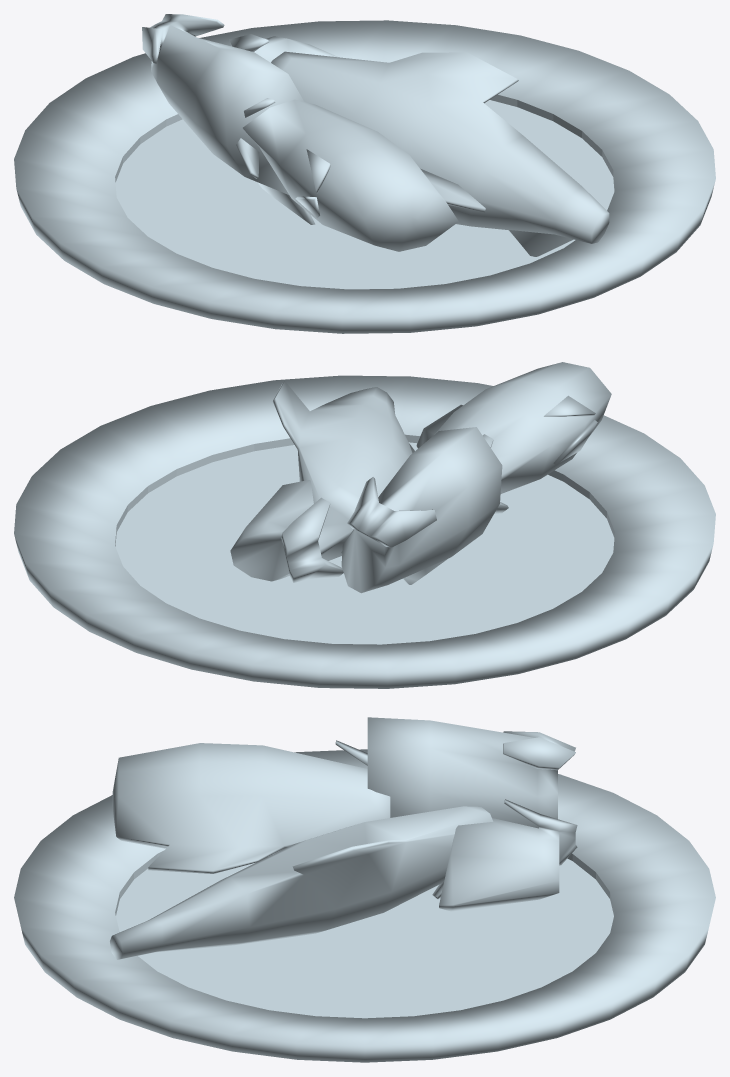
File: processedFish.fbx
3 views of the same model, one above another, from view 1: azimuth 30°, elevation 25°; view 2: azimuth 150°, elevation 25°; view 3: azimuth 270°, elevation 25° (orthographic).
Visible parts, largest first — view 1: Fish1/4.001; view 2: Fish1/4.001; view 3: Fish1/4.001.
Part boxes in pixels (bbox=[...]): Fish1/4.001: bbox=[14, 14, 715, 333]; Fish1/4.001: bbox=[14, 362, 715, 688]; Fish1/4.001: bbox=[14, 717, 715, 1062].
Bounding box in the file's own units: 178 × 49.64 × 178.
